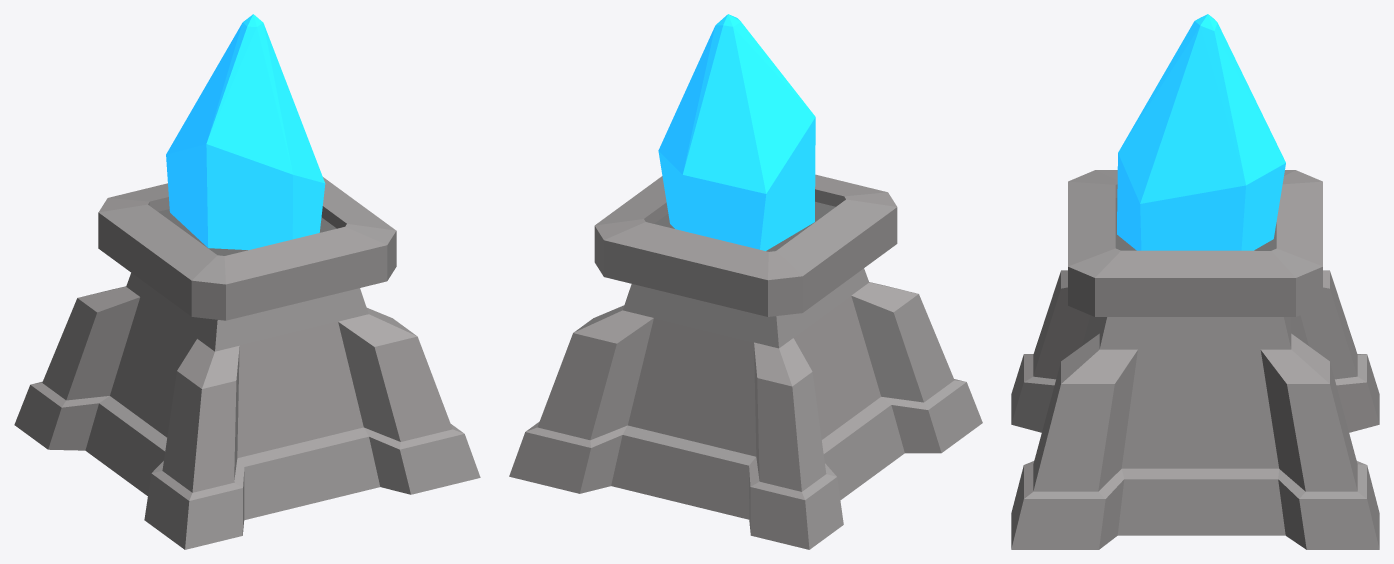
Rendered from SmlMagicTrap_1_Metal.fbx.
3 renders of one model, left to right at view 1: azimuth 30°, elevation 25°; view 2: azimuth 150°, elevation 25°; view 3: azimuth 270°, elevation 25°, orthographic. The views are drawn at different scales.
Visible parts, largest first — view 1: SmlMagicTrap_1_Metal; view 2: SmlMagicTrap_1_Metal; view 3: SmlMagicTrap_1_Metal.
Part boxes in pixels (x1,y1,x2,y2): SmlMagicTrap_1_Metal: [14, 14, 480, 549]; SmlMagicTrap_1_Metal: [509, 14, 982, 549]; SmlMagicTrap_1_Metal: [1011, 14, 1379, 549].
Bounding box in the file's own units: 37.81 × 52.58 × 37.81.
